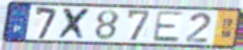2: (184, 11, 213, 44)
7: (126, 9, 154, 42), (35, 6, 58, 40)
8: (93, 8, 121, 42)
E: (150, 10, 184, 44)
X: (56, 7, 94, 41)
